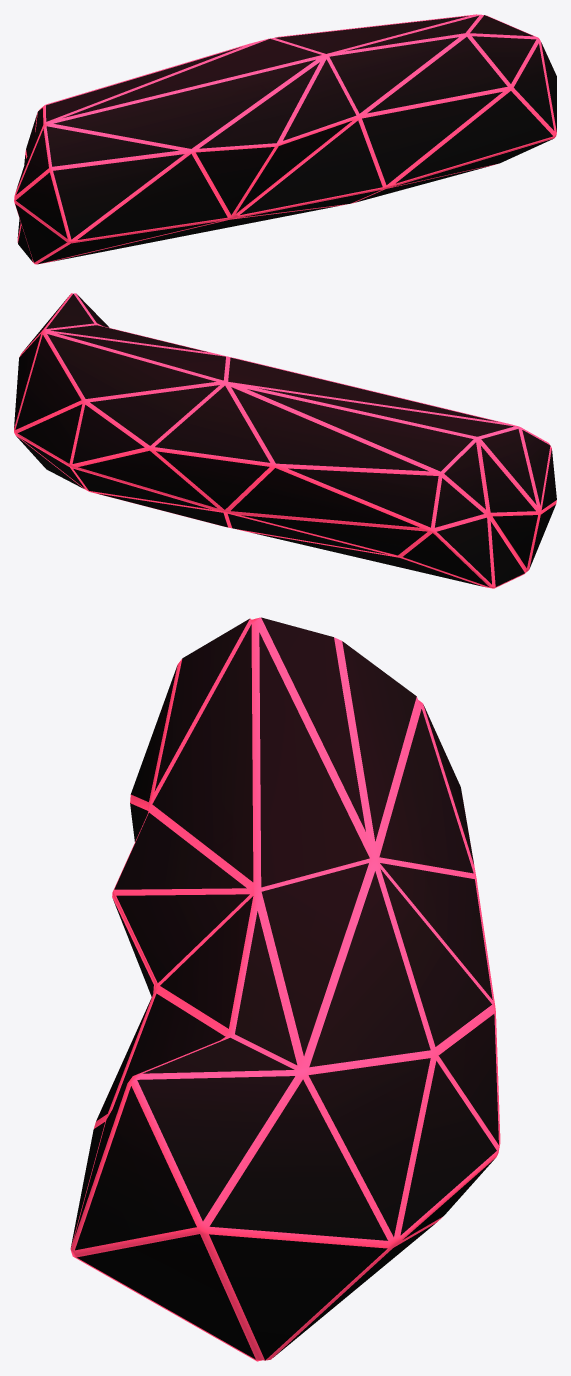
Rendered from Neon_log.fbx.
The picture shows the model from 3 angles, top to bottom: view 1: azimuth 30°, elevation 25°; view 2: azimuth 150°, elevation 25°; view 3: azimuth 270°, elevation 25°; orthographic projection. The views are drawn at different scales.
Visible parts, largest first — view 1: Neon_log; view 2: Neon_log; view 3: Neon_log.
Boxes of the visible parts, x1,y1,x2,y2 form: Neon_log: (14,14,556,264); Neon_log: (14,293,556,588); Neon_log: (70,617,500,1361).
Bounding box in the file's own units: 279 × 78.62 × 99.19.
